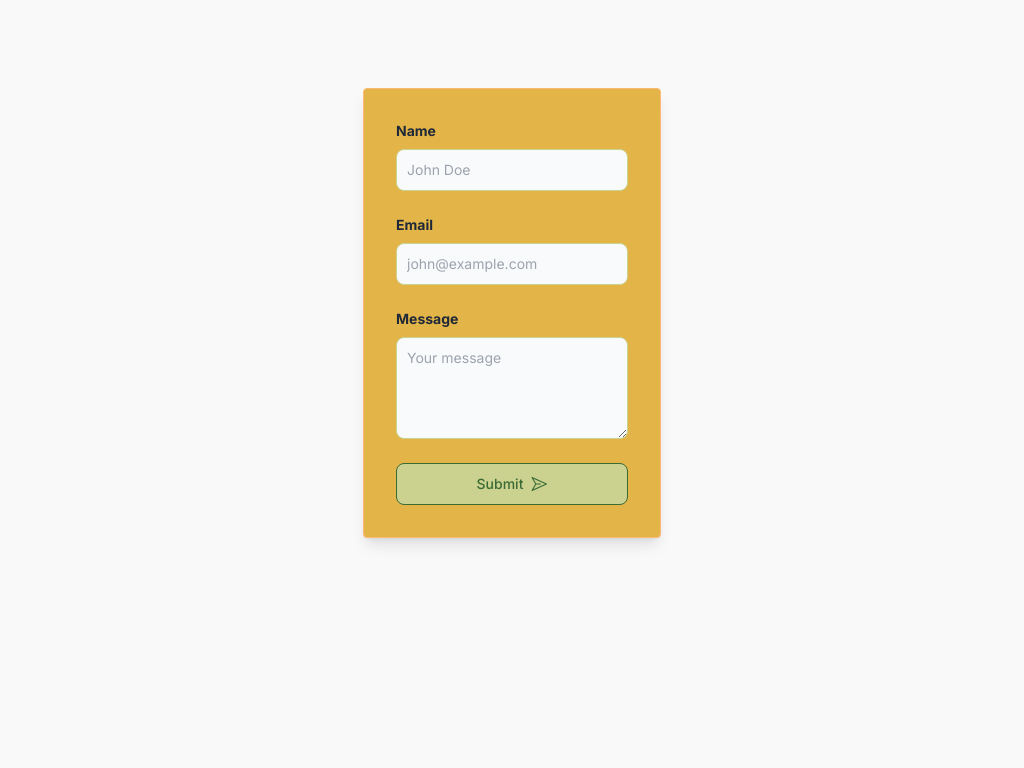
Test: Page › displays a error message after submitting the form due to response status
Type "Griffin Clark" into the field with placeholder "John Doe".
click(512, 170); type("Griffin Clark")  # box [396, 149, 628, 191]
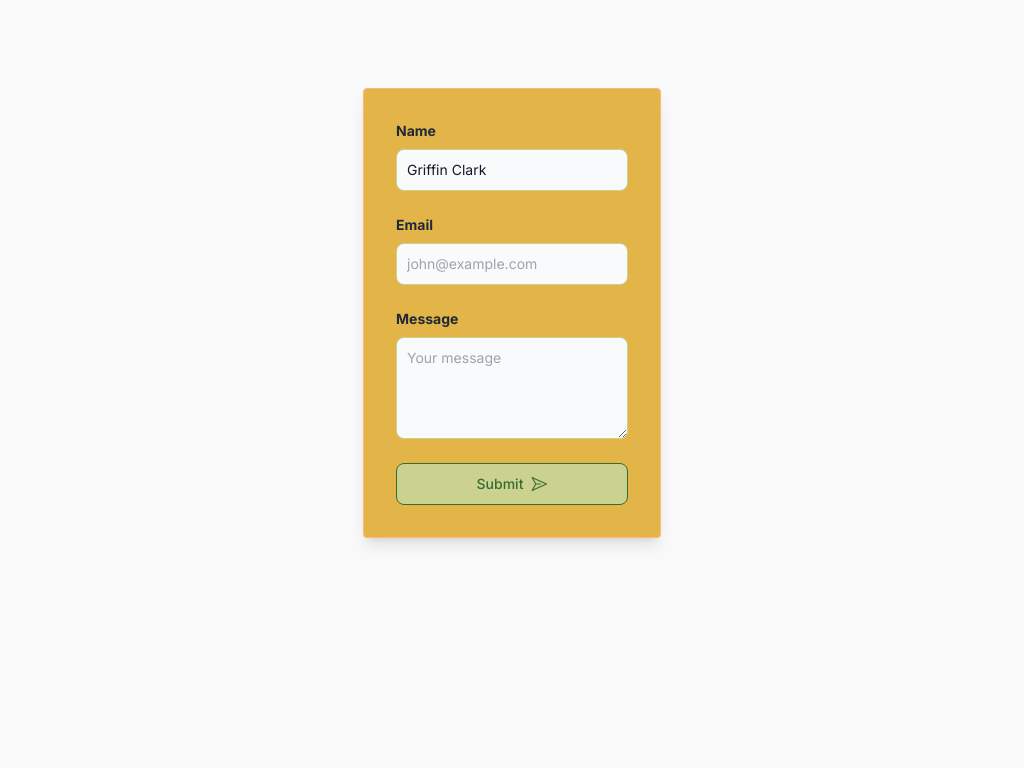
Type "griffin@example.com" into the field with placeholder "john@example.com".
click(512, 264); type("griffin@example.com")  # box [396, 243, 628, 285]
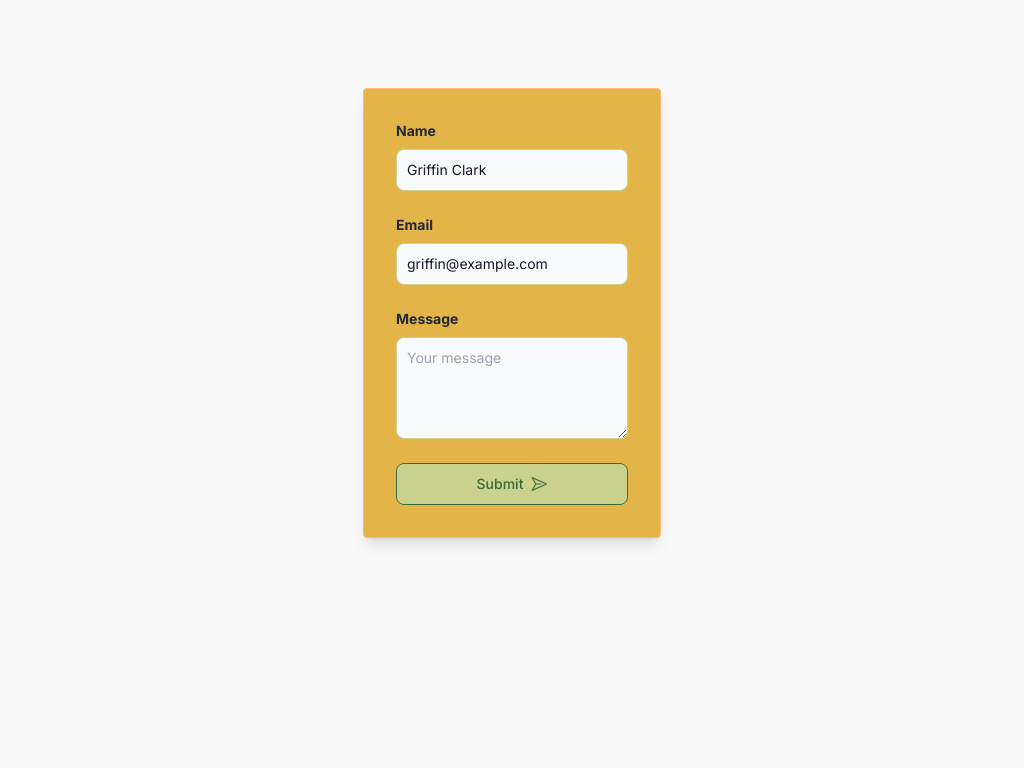
Type "Hello World" into the text box with placeholder "Your message".
click(512, 388); type("Hello World")  # box [396, 337, 628, 439]
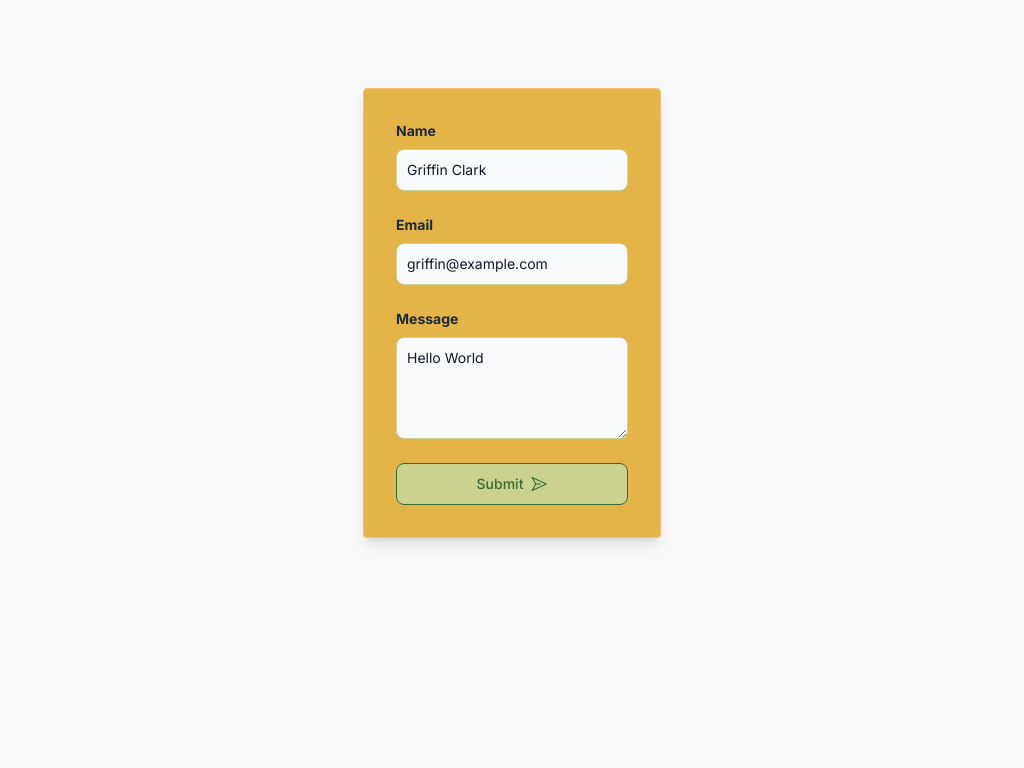
Click the button "Submit".
click(512, 484)  # box [396, 463, 628, 505]
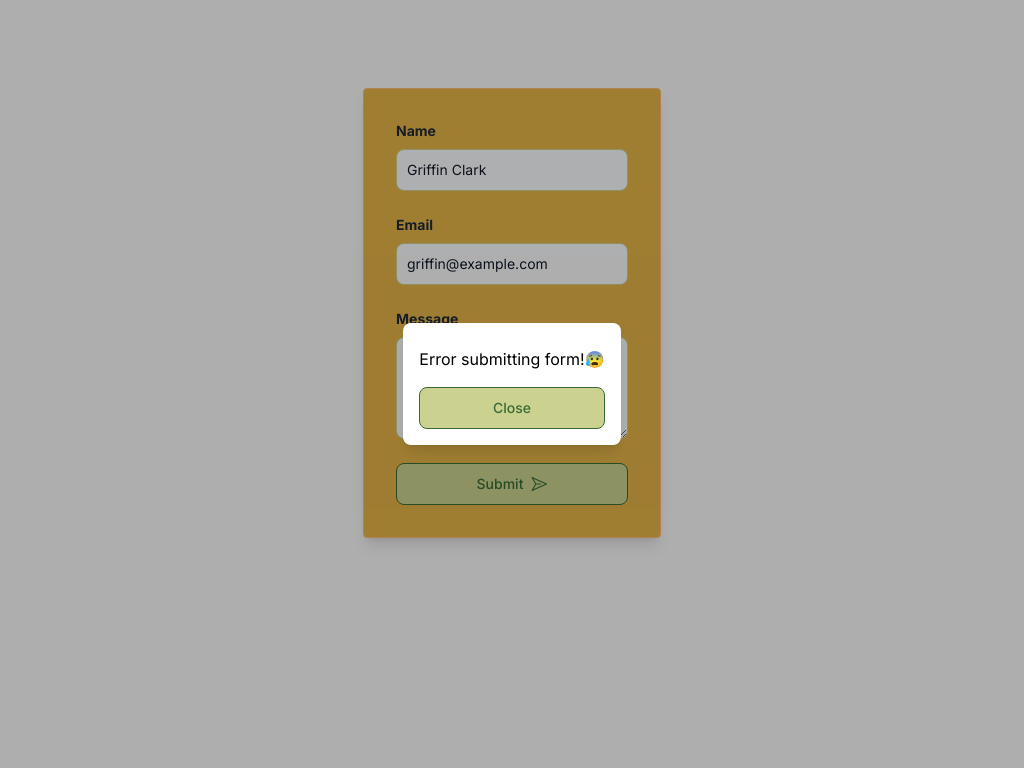
Expected: the text "Error submitting form!😰" is shown, [419, 349, 605, 369]
